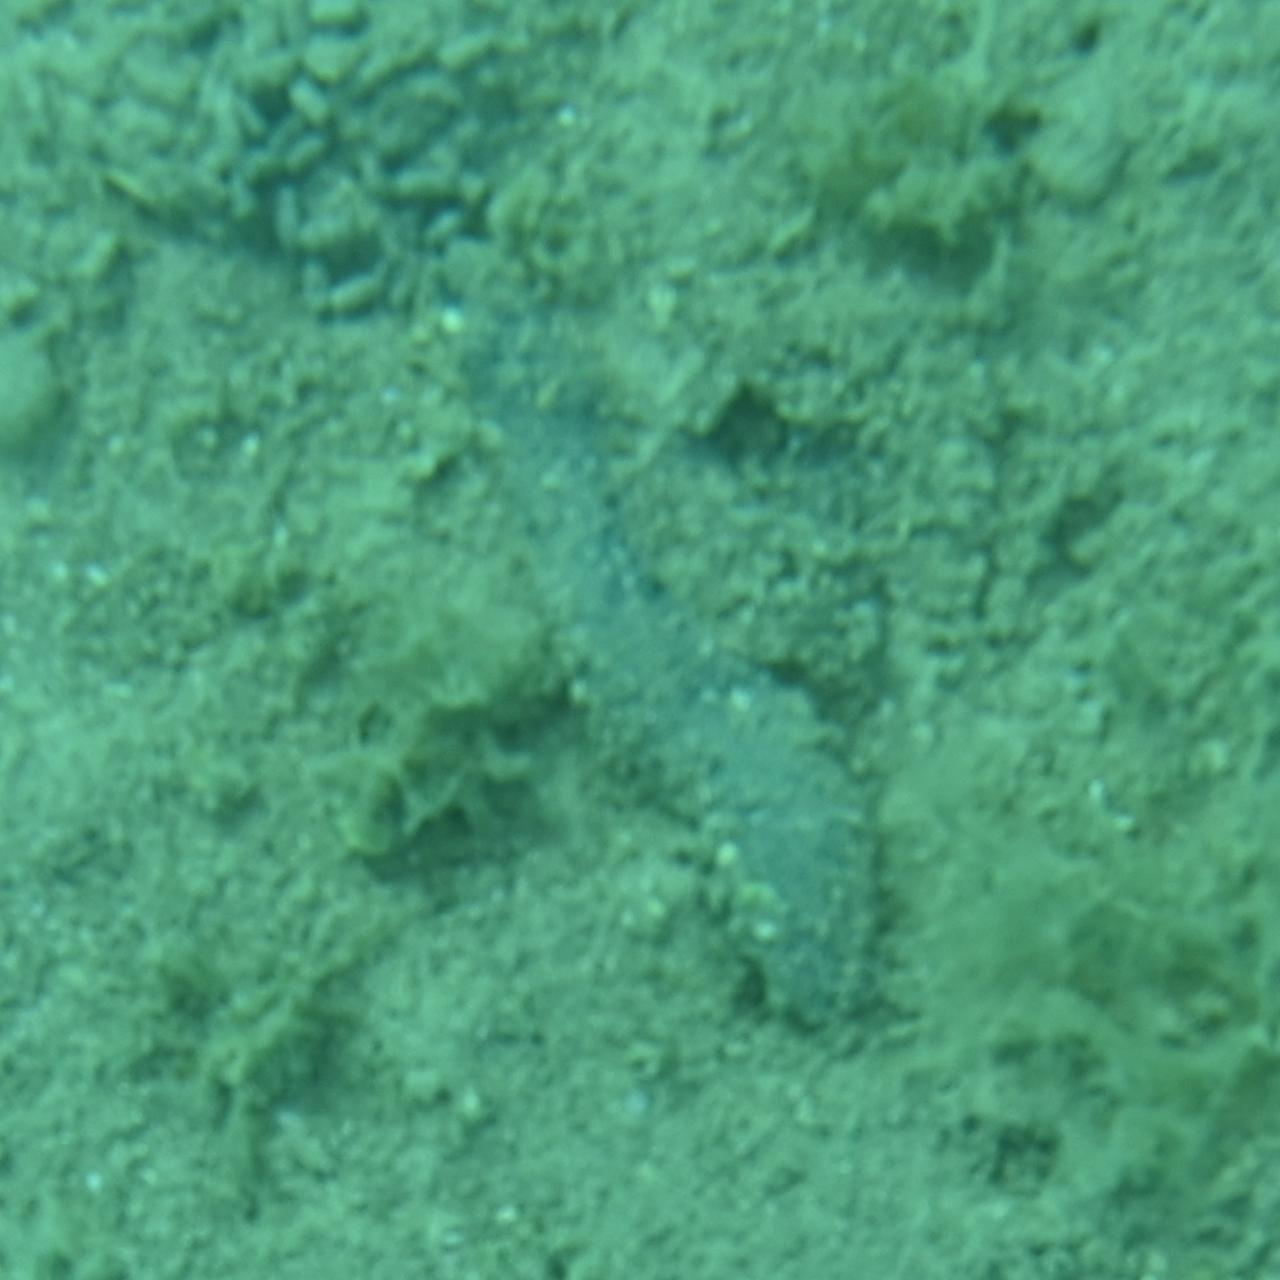Holothuria tubulosa: (354, 234, 926, 1046)
